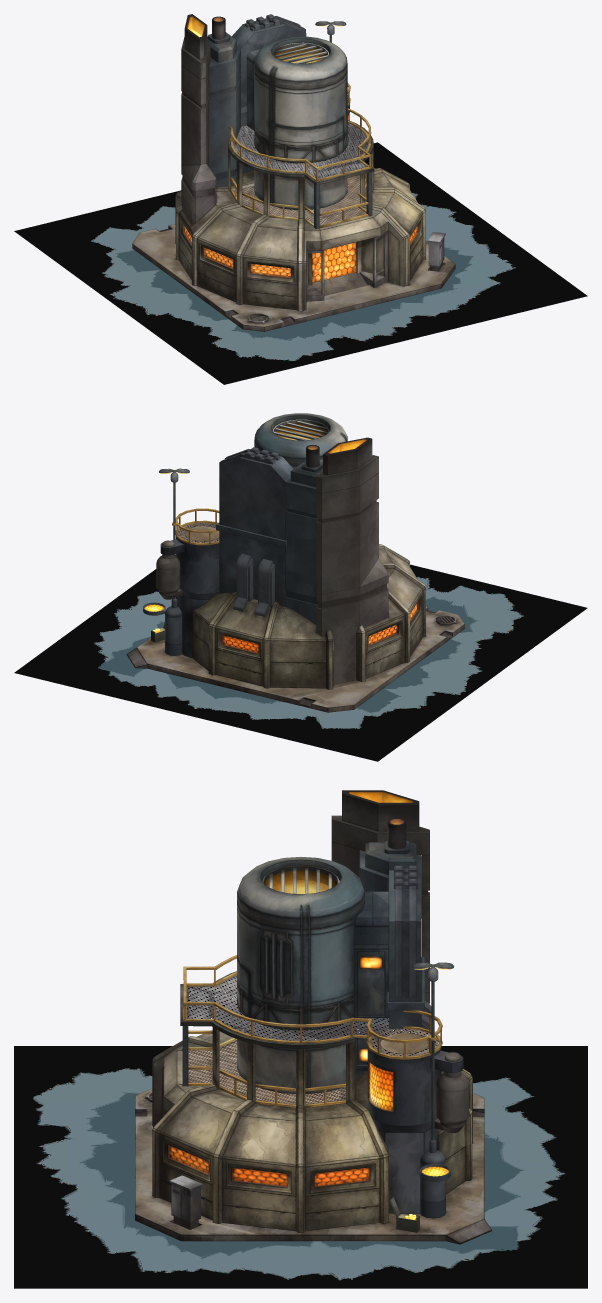
Rendered from monument_npp.glb.
3 renders of one model, top to bottom at view 1: azimuth 30°, elevation 25°; view 2: azimuth 150°, elevation 25°; view 3: azimuth 270°, elevation 25°, orthographic. The views are drawn at different scales.
Visible parts, largest first — view 1: FLOOR_Plane, BBase7, pCylinder9, pCube61, pCylinder2, Cyl_plane, pCube49, polySurface2, Grid_Floor_01, Floor3_Border___, Floor2_Border___, pCylinder7 (+4 smaller); view 2: FLOOR_Plane, pCube61, BBase8, pCube49, pCylinder2, BBase7, pCylinder11, pCylinder9, pCube65, pCylinder14, pCylinder12, pCube33 (+2 smaller); view 3: FLOOR_Plane, BBase7, pCylinder9, pCylinder2, pCube61, pCylinder11, pCube49, Cyl_plane, pCube52, Floor3_Border___, Grid_Floor_01, pCylinder14 (+5 smaller).
Part boxes in pixels (x1,y1,x2,y2): FLOOR_Plane: (14, 142, 587, 384); BBase7: (176, 147, 425, 311); pCylinder9: (254, 36, 347, 210); pCube61: (181, 14, 240, 224); pCylinder2: (132, 224, 455, 331); Cyl_plane: (232, 99, 368, 178); pCube49: (232, 16, 306, 173); polySurface2: (306, 231, 387, 301); Grid_Floor_01: (233, 175, 366, 225); Floor3_Border___: (229, 83, 371, 181); Floor2_Border___: (230, 175, 368, 227); pCylinder7: (228, 120, 373, 185); FLOOR_Plane: (14, 555, 587, 761); pCube61: (285, 437, 388, 684); BBase8: (192, 592, 333, 689); pCube49: (216, 449, 293, 606); pCylinder2: (126, 607, 464, 712); BBase7: (176, 544, 425, 681); pCylinder11: (176, 537, 219, 657); pCylinder9: (254, 413, 347, 466); pCube65: (233, 553, 274, 616); pCylinder14: (156, 540, 183, 599); pCylinder12: (165, 482, 182, 655); pCube33: (274, 421, 327, 440); FLOOR_Plane: (14, 1046, 587, 1288); BBase7: (152, 1027, 388, 1232); pCylinder9: (237, 857, 364, 1093); pCylinder2: (135, 1088, 491, 1244); pCube61: (331, 790, 429, 1003); pCylinder11: (367, 1046, 441, 1213); pCube49: (387, 870, 424, 1028); Cyl_plane: (186, 975, 438, 1056); pCube52: (354, 891, 388, 1071); Floor3_Border___: (183, 955, 442, 1059); Grid_Floor_01: (188, 1040, 345, 1104); pCylinder14: (434, 1052, 469, 1133).
Size of the model in its own units: 32.72 by 20.12 by 32.72.
2 materials, 2 textured.
